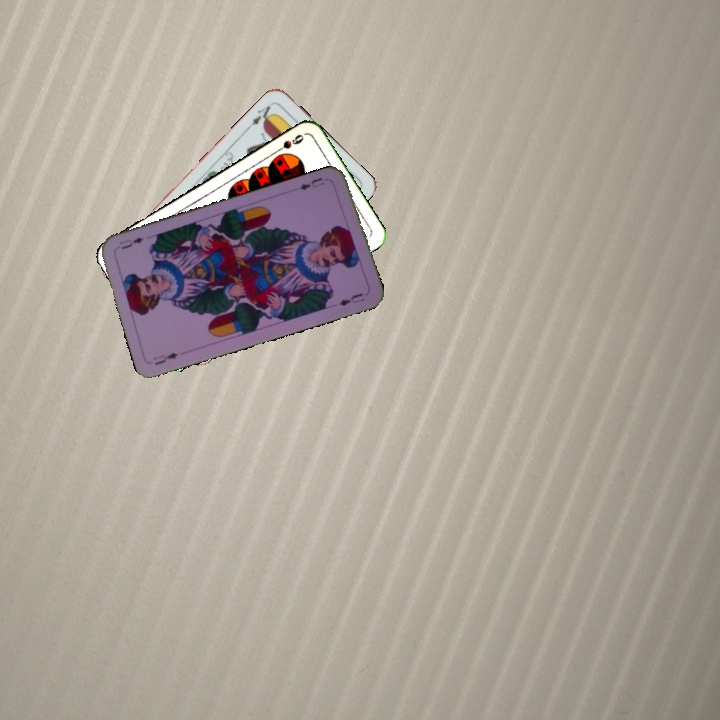EA: (243, 99, 276, 131)
EU: (295, 173, 327, 193), (149, 349, 181, 368)
S9: (270, 130, 307, 156)
